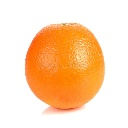orange: (23, 20, 107, 112)
